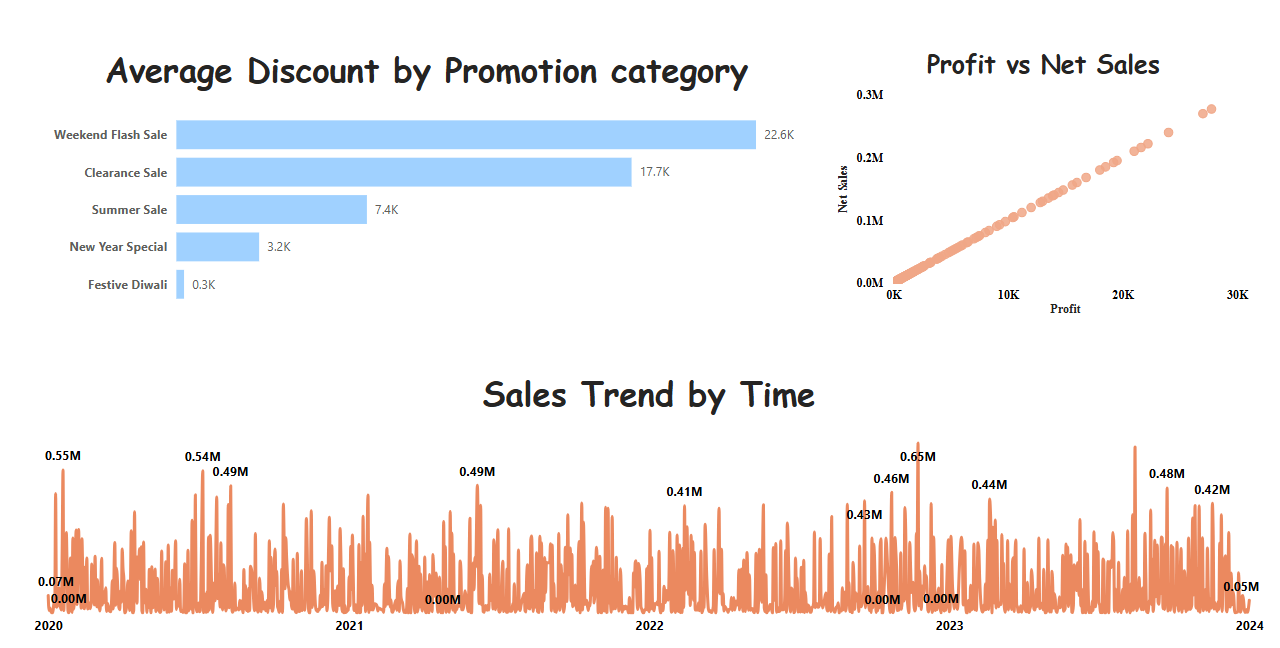

Layout of this report page (visuals, bound fields, positions):
{"tool":"powerbi","page":{"name":"Overview","canvas":[1280,720],"ordinal":1},"visuals":[{"type":"lineChart","title":"Sales Trend by Time","fields":{"Y":["Sum(Fact Table.Net Sales)"],"Category":["Fact Table.Date (dd/mm/yyyy).Variation.Date Hierarchy.Year"]},"box":[34.2,431.9,1213,268],"z":0},{"type":"scatterChart","title":"Profit vs Net Sales","fields":{"Y":["Fact Table.Net Sales"],"X":["Fact Table.Profit"]},"box":[821,115.5,411.9,268],"z":1000},{"type":"barChart","title":"Average Discount by Promotion category","fields":{"Category":["Dim Promotion.Promotion Name"],"Y":["Avg(Fact Table.Discount value)"]},"box":[52.1,115.3,741,267.6],"z":2000}]}

Visuals, with their boxes on the page's 1280x720 design canvas (x1, y1, x2, y2). These are canvas units, not pixel positions in the 1280x648 screenshot, which may show the page scaled, cropped or inside an application window:
"Sales Trend by Time" lineChart: (left=34, top=432, right=1247, bottom=700)
"Profit vs Net Sales" scatterChart: (left=821, top=116, right=1233, bottom=384)
"Average Discount by Promotion category" barChart: (left=52, top=115, right=793, bottom=383)
